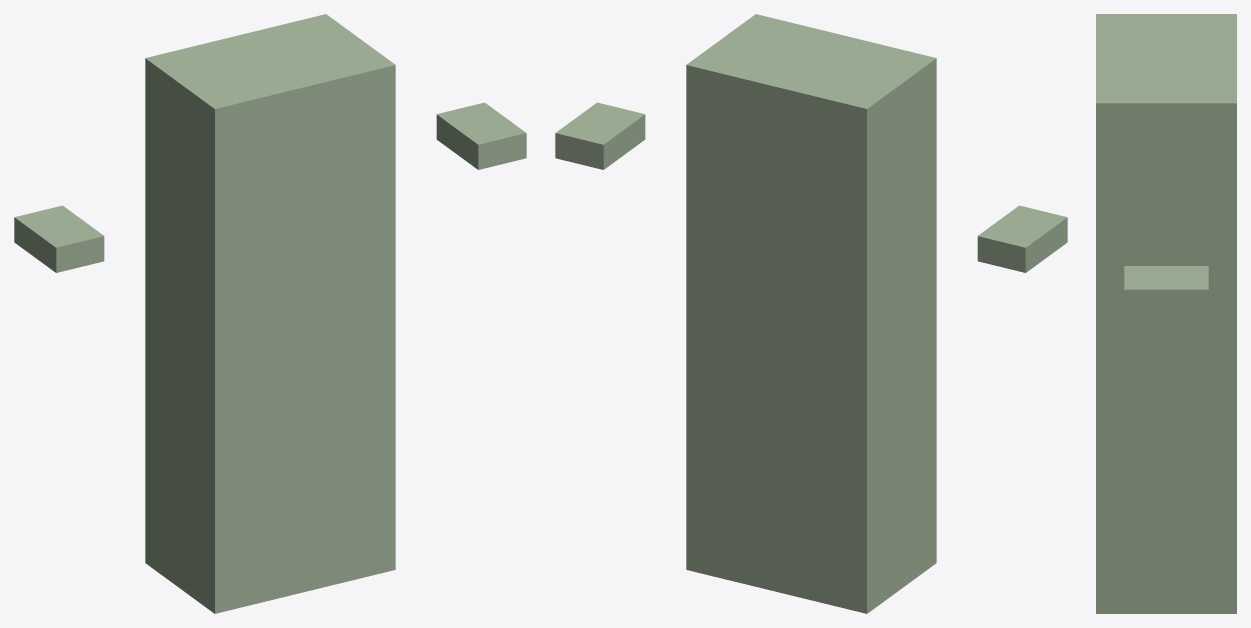
File: animated-scene.glb
3 renders of one model, left to right at view 1: azimuth 30°, elevation 25°; view 2: azimuth 150°, elevation 25°; view 3: azimuth 270°, elevation 25°, orthographic.
Parts seen in each view (by area): view 1: TutorBody, TutorHand_L, TutorHand_R; view 2: TutorBody, TutorHand_L, TutorHand_R; view 3: TutorBody, TutorHand_L.
Boxes of the visible parts, x1,y1,x2,y2 form: TutorBody: (145,14,395,613); TutorHand_L: (436,102,526,169); TutorHand_R: (14,205,104,272); TutorBody: (686,14,936,613); TutorHand_L: (555,102,645,169); TutorHand_R: (977,205,1067,272); TutorBody: (1096,14,1236,613); TutorHand_L: (1124,266,1208,315).
Size of the model in its own units: 0.78 by 0.8 by 0.2.
